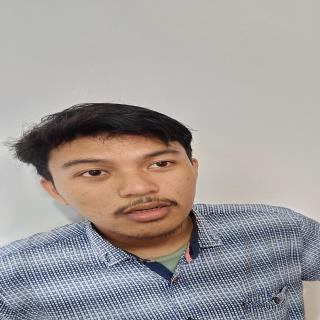Takut: (38, 129, 207, 243)
